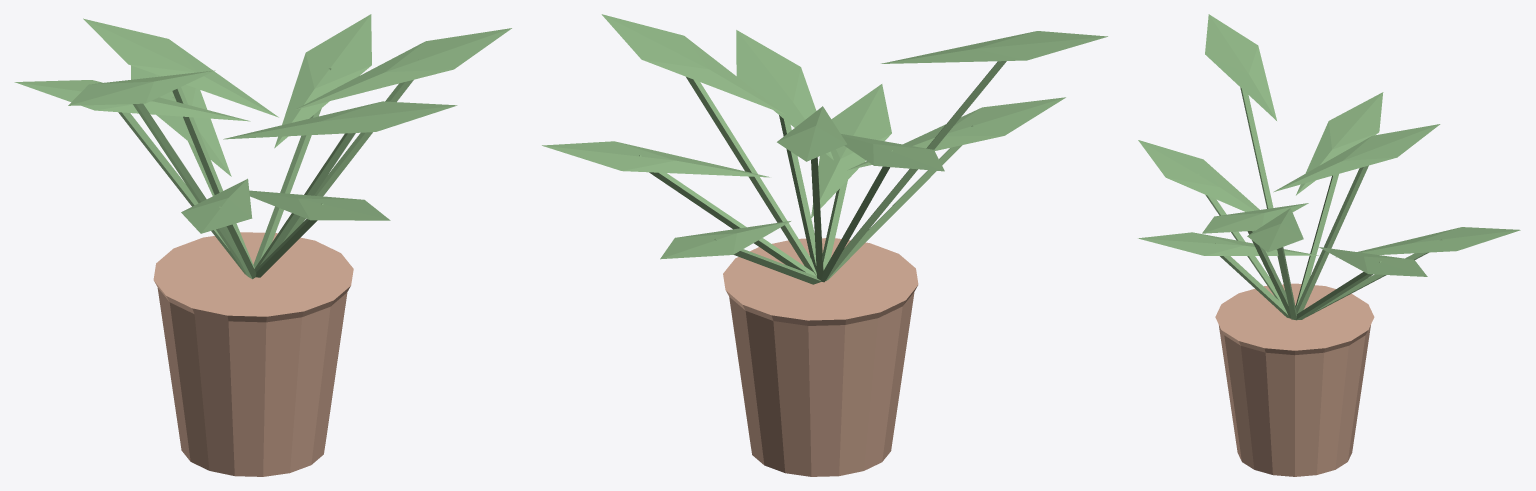
The model's file is plant.glb.
3 renders of one model, left to right at view 1: azimuth 30°, elevation 25°; view 2: azimuth 150°, elevation 25°; view 3: azimuth 270°, elevation 25°, orthographic. The views are drawn at different scales.
Parts seen in each view (by area): view 1: plant_pot, plant_plant; view 2: plant_plant, plant_pot; view 3: plant_plant, plant_pot.
Part boxes in pixels (bbox=[...]): plant_pot: bbox=[153, 232, 353, 476]; plant_plant: bbox=[14, 14, 511, 279]; plant_plant: bbox=[542, 14, 1107, 284]; plant_pot: bbox=[723, 238, 918, 476]; plant_plant: bbox=[1138, 14, 1520, 320]; plant_pot: bbox=[1215, 283, 1374, 476].
Bounding box in the file's own units: 1.38 × 1.2 × 1.21.
